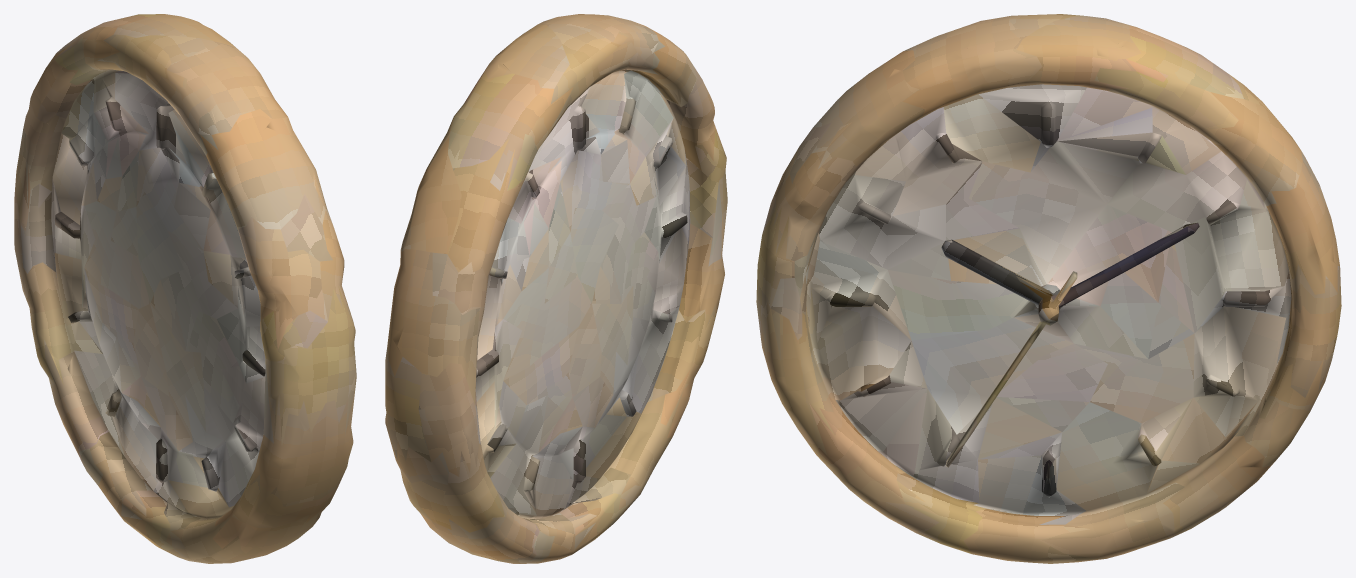
Rendered from JP_사물_s2_office_clock.glb.
The picture shows the model from 3 angles, left to right: view 1: azimuth 30°, elevation 25°; view 2: azimuth 150°, elevation 25°; view 3: azimuth 270°, elevation 25°; orthographic projection. The views are drawn at different scales.
Visible parts, largest first — view 1: tripo_node_7c2eaa9c-b48c-4338-a932-e6f7e69d0863; view 2: tripo_node_7c2eaa9c-b48c-4338-a932-e6f7e69d0863; view 3: tripo_node_7c2eaa9c-b48c-4338-a932-e6f7e69d0863.
Part boxes in pixels (x1,y1,x2,y2): tripo_node_7c2eaa9c-b48c-4338-a932-e6f7e69d0863: (14, 14, 356, 563); tripo_node_7c2eaa9c-b48c-4338-a932-e6f7e69d0863: (385, 14, 727, 563); tripo_node_7c2eaa9c-b48c-4338-a932-e6f7e69d0863: (756, 14, 1341, 563).
Bounding box in the file's own units: 0.2131 × 0.997 × 1.
1 material, 1 textured.
